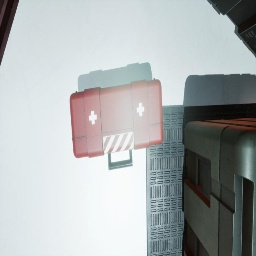FirstAidBox ,: (70, 78, 164, 171)
